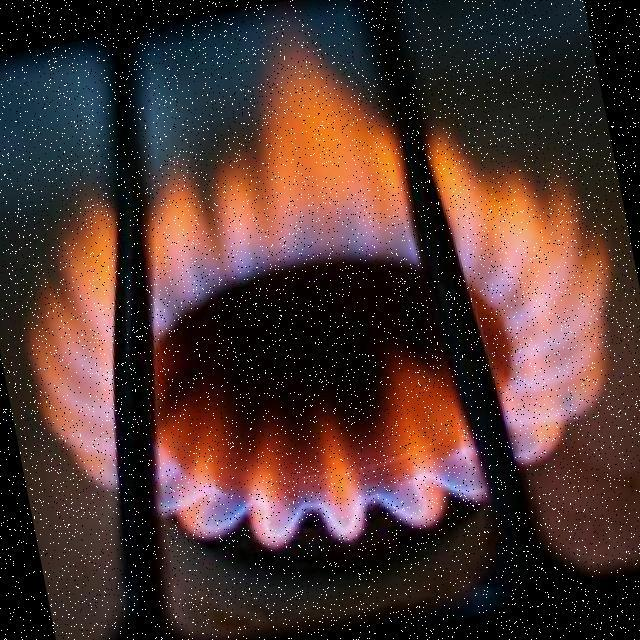Fire: (0, 5, 640, 591)
